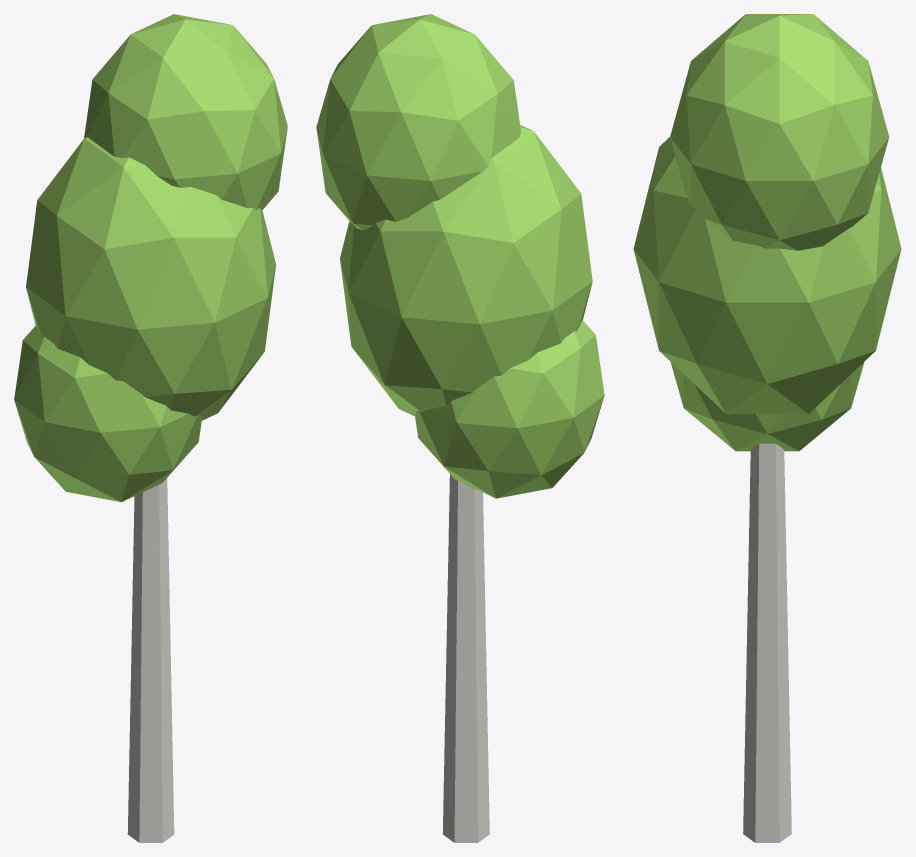
File: Tree_12_Birch.fbx
3 renders of one model, left to right at view 1: azimuth 30°, elevation 25°; view 2: azimuth 150°, elevation 25°; view 3: azimuth 270°, elevation 25°, orthographic. The views are drawn at different scales.
Visible parts, largest first — view 1: Tree_12_Birch; view 2: Tree_12_Birch; view 3: Tree_12_Birch.
Boxes of the visible parts, x1,y1,x2,y2 form: Tree_12_Birch: (14,14,287,842); Tree_12_Birch: (316,14,604,842); Tree_12_Birch: (633,14,901,842).
Size of the model in its own units: 2.46 by 7.6 by 2.2.
